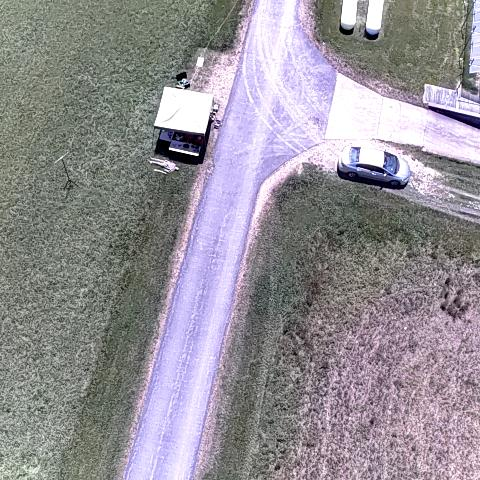person: (146, 156, 180, 173)
